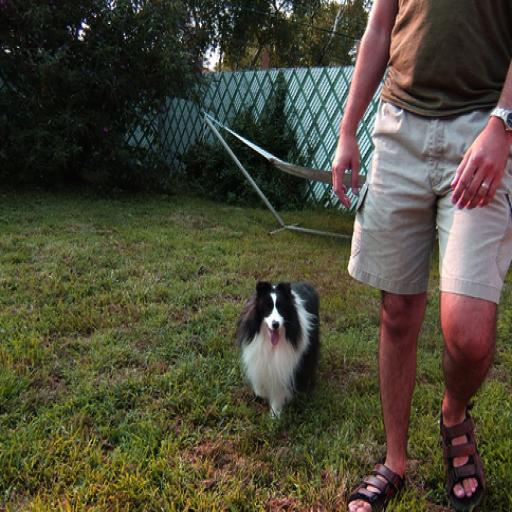dog_face: (253, 278, 294, 347)
